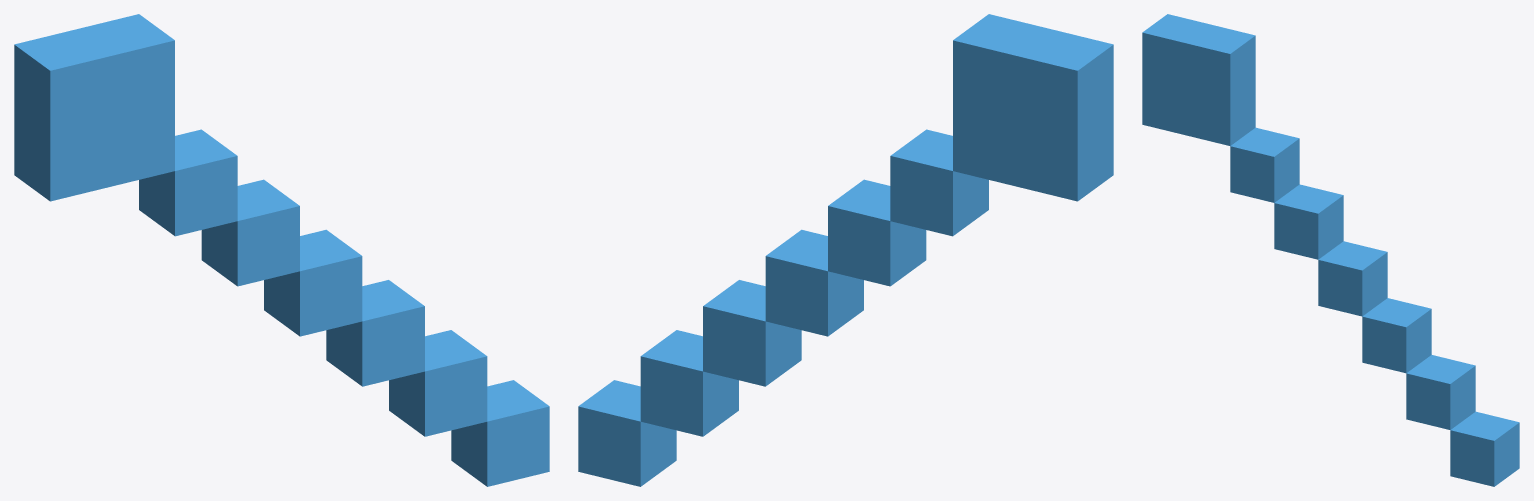
Rendered from Spear-Blue.vox.obj.
3 views of the same model, side by side, from view 1: azimuth 30°, elevation 25°; view 2: azimuth 150°, elevation 25°; view 3: azimuth 330°, elevation 25° (orthographic). The views are drawn at different scales.
Bounding box in the file's own units: 0.8 × 0.8 × 0.1.
1 material, 1 textured.
